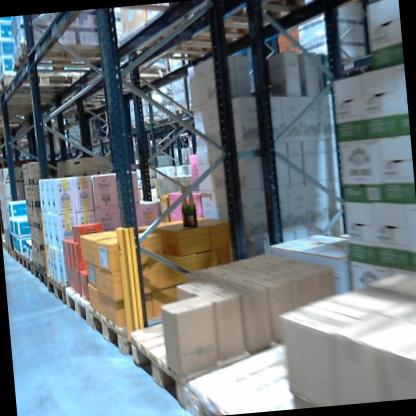pallet: (125, 267, 342, 416), (179, 321, 356, 416), (89, 290, 216, 373), (130, 6, 245, 71), (9, 33, 121, 79), (0, 59, 96, 100), (0, 80, 73, 112), (64, 282, 93, 335), (42, 269, 73, 311), (31, 261, 49, 293), (21, 251, 34, 276), (14, 250, 24, 270), (174, 105, 189, 118), (6, 241, 14, 260), (180, 133, 189, 140)
